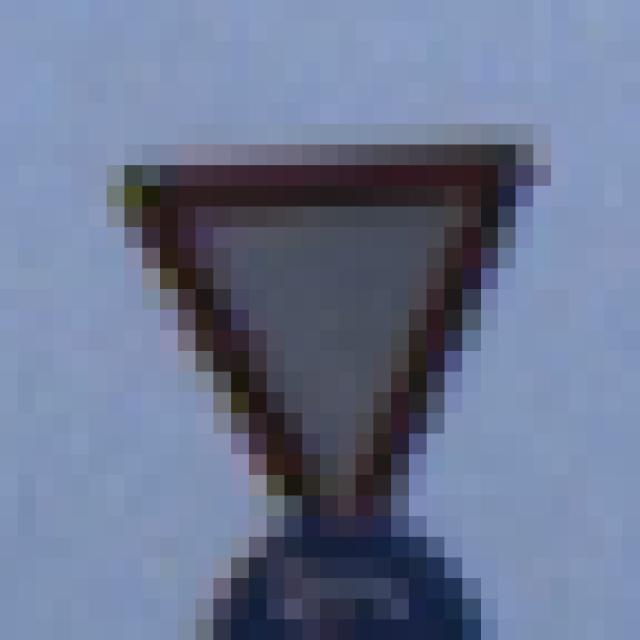Give Way: (108, 104, 552, 538)
